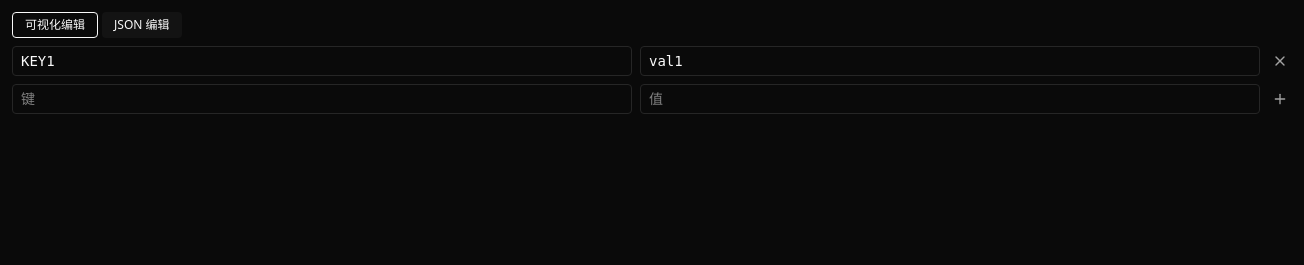
it: R2-3-1：config 域私有组件基座 › KeyValueEditor › 切换到 JSON 编辑模式
Click the button with test id "kv-mode-json".
click(142, 25)  # box [102,12,182,38]
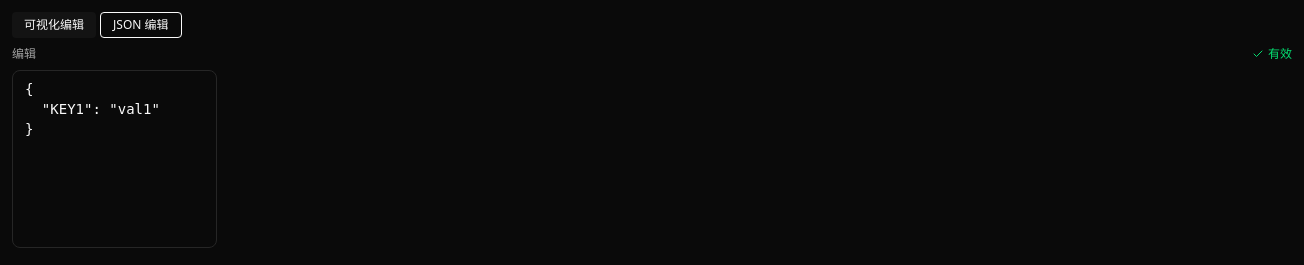
Result: the text box with test id "kv-json-textarea" is shown at [12,70,217,248]
